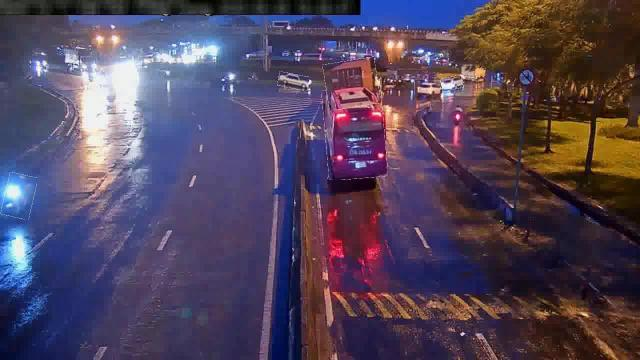Bike: (3, 173, 35, 219)
Bus: (324, 87, 386, 179), (324, 59, 380, 109)
Car: (278, 74, 308, 90), (414, 80, 440, 96), (441, 76, 463, 90)
